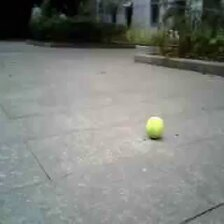tennis: (146, 117, 162, 139)
